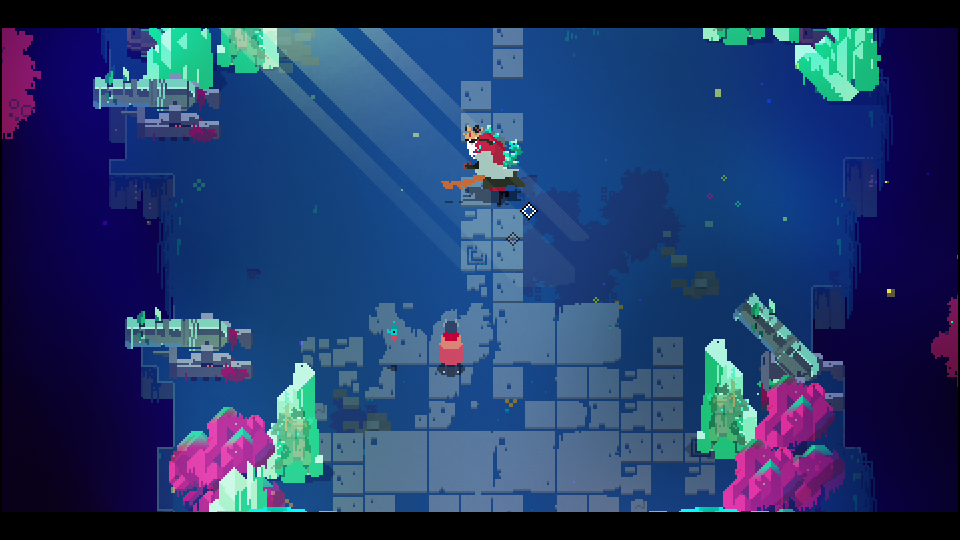hanged_man: (448, 134, 525, 194)
player: (438, 318, 462, 375)
